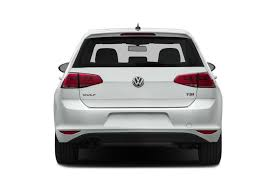car: (47, 22, 228, 168)
